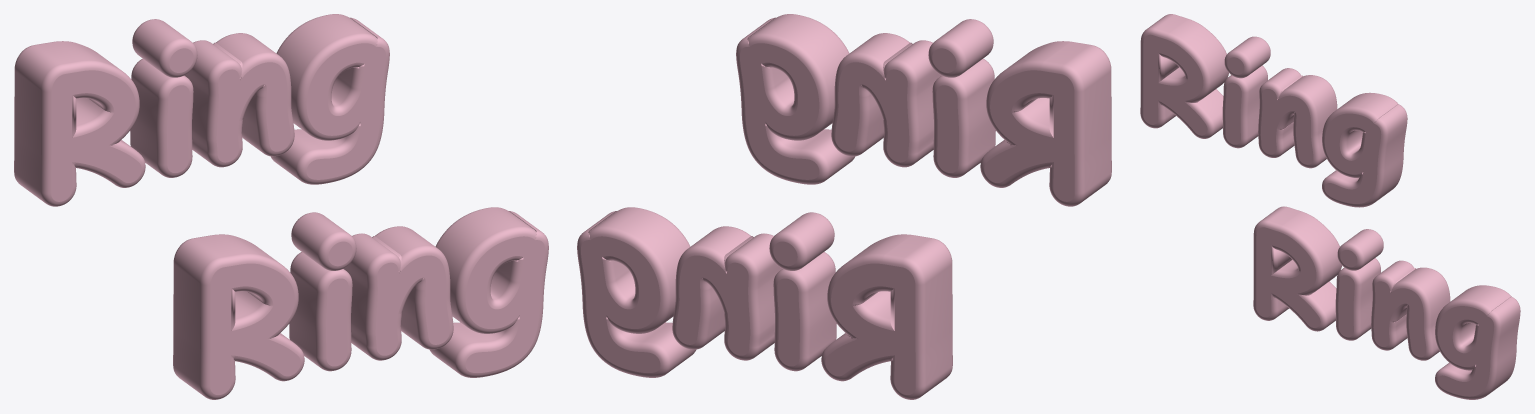
File: ringring.glb
3 renders of one model, left to right at view 1: azimuth 30°, elevation 25°; view 2: azimuth 150°, elevation 25°; view 3: azimuth 330°, elevation 25°, orthographic. The views are drawn at different scales.
Visible parts, largest first — view 1: Text; view 2: Text; view 3: Text.
Part boxes in pixels (left/top/right/bottom): Text: left=14, top=14, right=548, bottom=399; Text: left=577, top=14, right=1111, bottom=399; Text: left=1140, top=14, right=1520, bottom=399.
Bounding box in the file's own units: 2.29 × 1.79 × 0.26.
